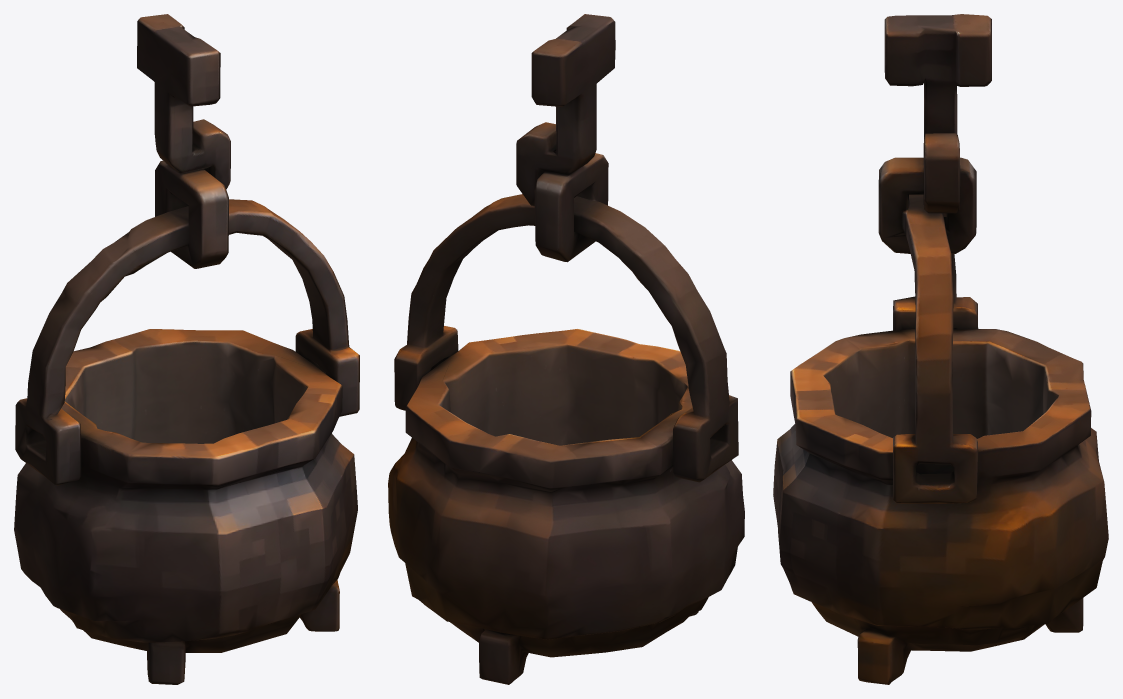
Rendered from fireplace-cauldron.glb.
3 views of the same model, side by side, from view 1: azimuth 30°, elevation 25°; view 2: azimuth 150°, elevation 25°; view 3: azimuth 270°, elevation 25° (orthographic).
Parts seen in each view (by area): view 1: tripo_node_1fd4d1e8-6b00-4b04-8827-389188c26bf6; view 2: tripo_node_1fd4d1e8-6b00-4b04-8827-389188c26bf6; view 3: tripo_node_1fd4d1e8-6b00-4b04-8827-389188c26bf6.
Boxes of the visible parts, x1,y1,x2,y2 form: tripo_node_1fd4d1e8-6b00-4b04-8827-389188c26bf6: (14, 14, 359, 684); tripo_node_1fd4d1e8-6b00-4b04-8827-389188c26bf6: (388, 14, 744, 684); tripo_node_1fd4d1e8-6b00-4b04-8827-389188c26bf6: (773, 14, 1108, 684).
Size of the model in its own units: 0.351 by 0.65 by 0.3295.
Materials: 1 (1 with a texture image).
